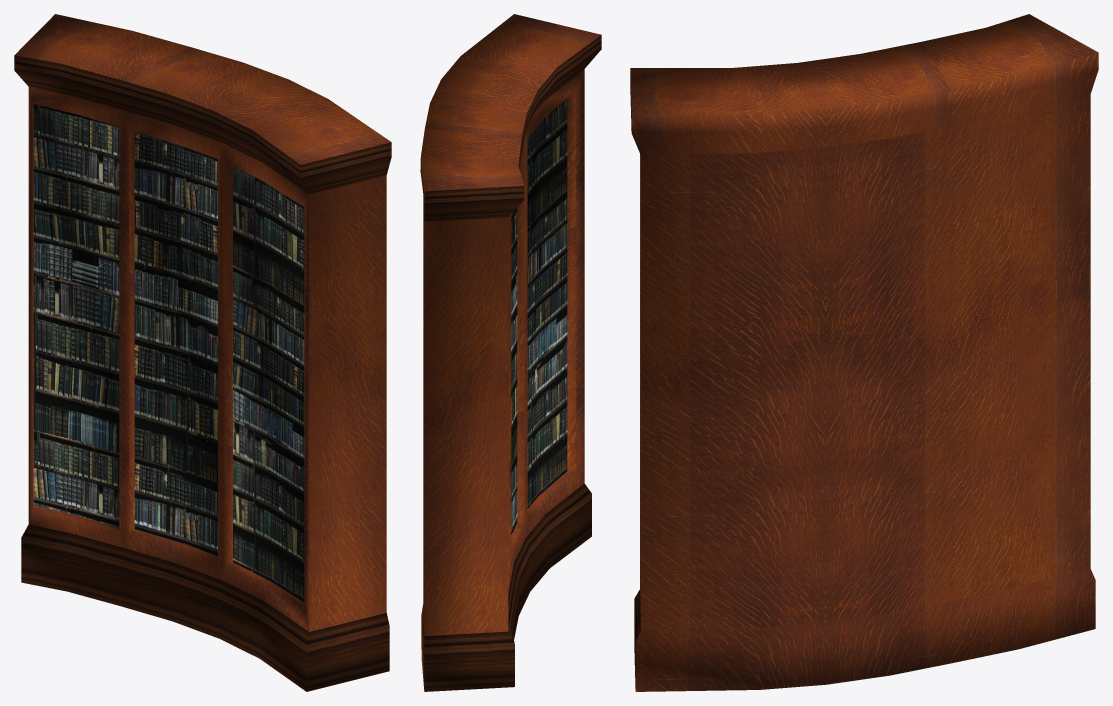
File: Bookcase_round_Med.fbx
3 views of the same model, side by side, from view 1: azimuth 30°, elevation 25°; view 2: azimuth 150°, elevation 25°; view 3: azimuth 270°, elevation 25° (orthographic). The views are drawn at different scales.
Parts seen in each view (by area): view 1: Bookcaselong1.001; view 2: Bookcaselong1.001; view 3: Bookcaselong1.001.
Boxes of the visible parts, left/top/right/bottom form: Bookcaselong1.001: left=14, top=14, right=391, bottom=691; Bookcaselong1.001: left=420, top=14, right=601, bottom=691; Bookcaselong1.001: left=630, top=14, right=1098, bottom=691.
Size of the model in its own units: 177 by 463 by 342.
